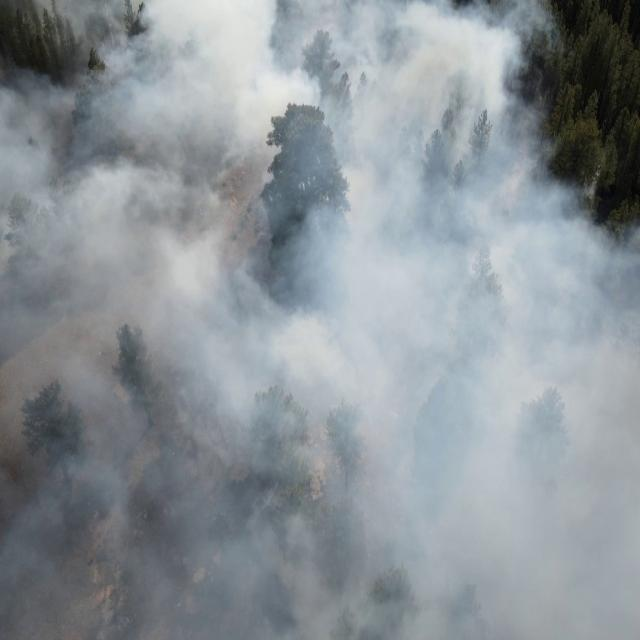smoke: (0, 0, 561, 640), (561, 174, 640, 640)
